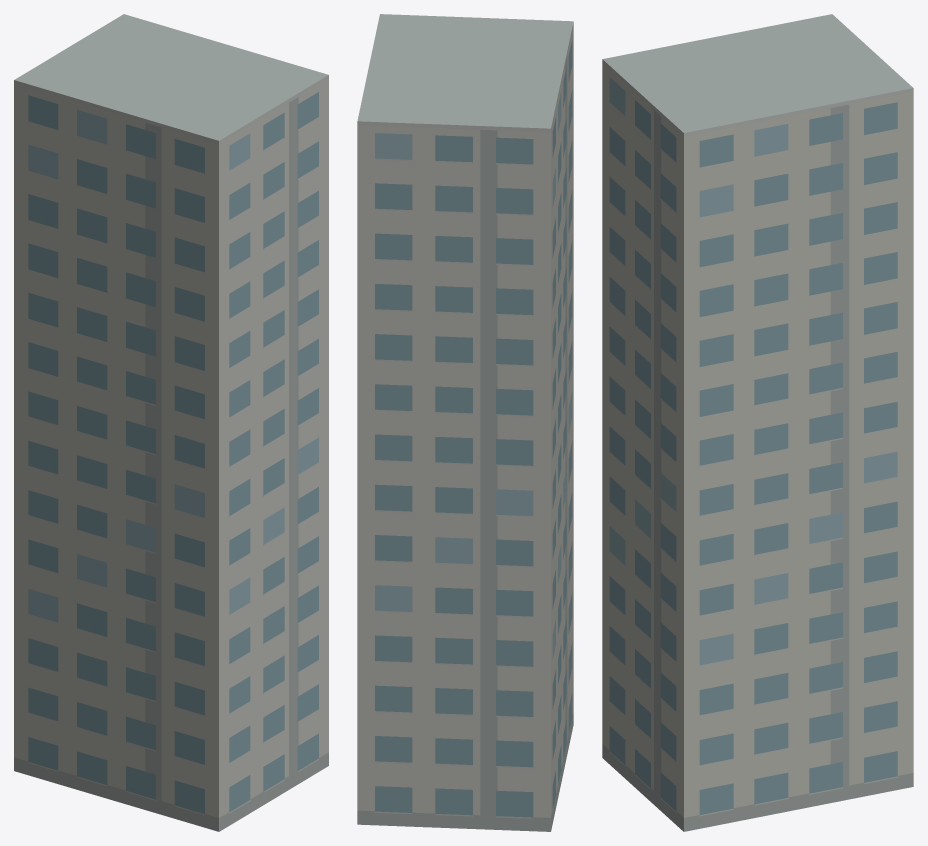
Rendered from residential-d6a175ae-7902-408a-899d-07c3a2227e7b.glb.
The picture shows the model from 3 angles, left to right: view 1: azimuth 30°, elevation 25°; view 2: azimuth 150°, elevation 25°; view 3: azimuth 270°, elevation 25°; orthographic projection.
Visible parts, largest first — view 1: residential-d6a175ae-7902-408a-899d-07c3a2227e7b.tmp; view 2: residential-d6a175ae-7902-408a-899d-07c3a2227e7b.tmp; view 3: residential-d6a175ae-7902-408a-899d-07c3a2227e7b.tmp.
Boxes of the visible parts, <box> form: residential-d6a175ae-7902-408a-899d-07c3a2227e7b.tmp: <box>14,14,328,831</box>; residential-d6a175ae-7902-408a-899d-07c3a2227e7b.tmp: <box>357,14,573,831</box>; residential-d6a175ae-7902-408a-899d-07c3a2227e7b.tmp: <box>602,14,913,831</box>.
Bounding box in the file's own units: 16.46 × 45 × 18.17.
